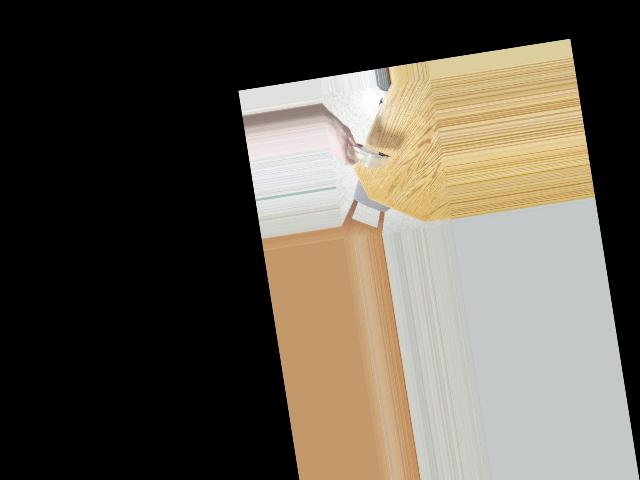cheese: (343, 139, 390, 172)
